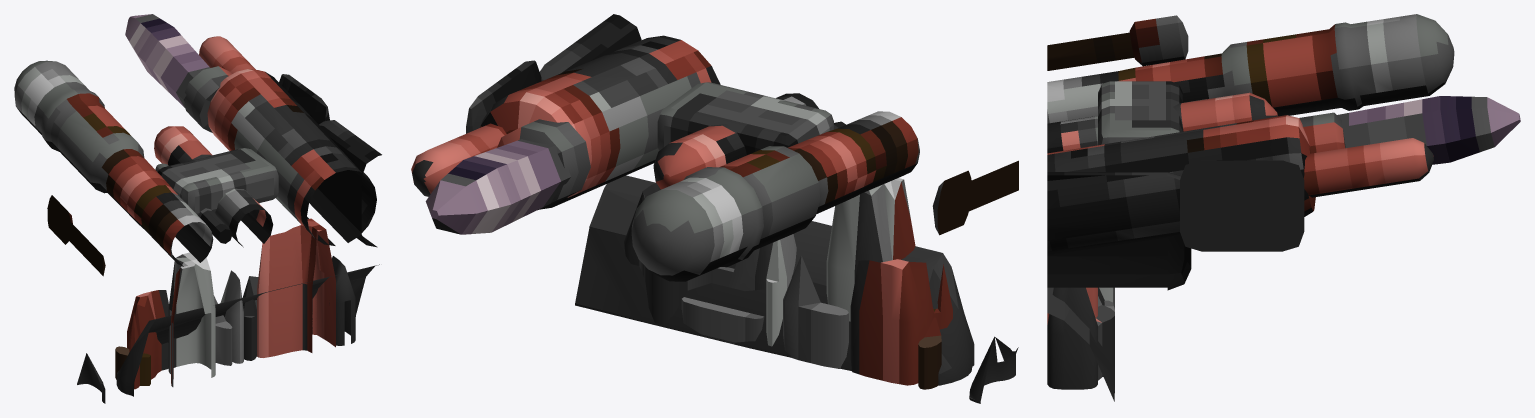
The model's file is deli_tower_3.glb.
The picture shows the model from 3 angles, left to right: view 1: azimuth 30°, elevation 25°; view 2: azimuth 150°, elevation 25°; view 3: azimuth 270°, elevation 25°; orthographic projection. The views are drawn at different scales.
Parts seen in each view (by area): view 1: deli_tower_3_s1, deli_tower_3_s2, deli_tower_3_hull_red, deli_tower_3_hull_light, deli_tower_3_s_cross, deli_tower_3_s2_crystal, deli_tower_3_hull_gaps, deli_tower_3_s3, deli_tower_3_s4_low, deli_tower_3_hull_dark, deli_tower_3_s2_collar, deli_tower_3_s5 (+5 smaller); view 2: deli_tower_3_s1, deli_tower_3_hull_gaps, deli_tower_3_s2, deli_tower_3_hull_red, deli_tower_3_s2_crystal, deli_tower_3_hull_light, deli_tower_3_s_cross, deli_tower_3_hull_mid, deli_tower_3_hull_dark, deli_tower_3_s3, deli_tower_3_s5, deli_tower_3_s2_collar (+4 smaller); view 3: deli_tower_3_s1, deli_tower_3_s2, deli_tower_3_s4_high, deli_tower_3_s2_crystal, deli_tower_3_s4_low, deli_tower_3_s2_rail, deli_tower_3_hull_dark, deli_tower_3_s_cross, deli_tower_3_s5, deli_tower_3_s3, deli_tower_3_hull_gaps, deli_tower_3_s2_collar.
Boxes of the visible parts, x1,y1,x2,y2 form: deli_tower_3_s1: (14, 60, 213, 266); deli_tower_3_s2: (207, 69, 376, 245); deli_tower_3_hull_red: (127, 218, 335, 389); deli_tower_3_hull_light: (168, 252, 243, 386); deli_tower_3_s_cross: (158, 148, 278, 215); deli_tower_3_s2_crystal: (125, 14, 209, 107); deli_tower_3_hull_gaps: (77, 264, 379, 403); deli_tower_3_s3: (154, 126, 273, 247); deli_tower_3_s4_low: (318, 120, 381, 247); deli_tower_3_hull_dark: (242, 256, 355, 360); deli_tower_3_s2_collar: (184, 66, 231, 132); deli_tower_3_s5: (47, 195, 105, 276); deli_tower_3_s1: (631, 111, 919, 281); deli_tower_3_hull_gaps: (575, 175, 1018, 403); deli_tower_3_s2: (480, 35, 720, 209); deli_tower_3_hull_red: (850, 259, 952, 385); deli_tower_3_s2_crystal: (425, 139, 570, 234); deli_tower_3_hull_light: (766, 178, 915, 346); deli_tower_3_s_cross: (657, 82, 833, 155); deli_tower_3_hull_mid: (681, 255, 848, 368); deli_tower_3_hull_dark: (624, 183, 772, 326); deli_tower_3_s3: (653, 93, 818, 189); deli_tower_3_s5: (932, 160, 1018, 235); deli_tower_3_s2_collar: (497, 119, 590, 210); deli_tower_3_s1: (1047, 14, 1454, 123); deli_tower_3_s2: (1047, 115, 1315, 254); deli_tower_3_s4_high: (1180, 160, 1304, 251); deli_tower_3_s2_crystal: (1337, 96, 1520, 164); deli_tower_3_s4_low: (1047, 172, 1191, 290); deli_tower_3_s2_rail: (1303, 138, 1433, 197); deli_tower_3_hull_dark: (1047, 287, 1114, 389); deli_tower_3_s_cross: (1098, 81, 1182, 145); deli_tower_3_s5: (1047, 15, 1188, 70); deli_tower_3_s3: (1047, 92, 1277, 153); deli_tower_3_hull_gaps: (1047, 287, 1114, 401); deli_tower_3_s2_collar: (1299, 112, 1345, 153).
Bounding box in the file's own units: 23.98 × 17.53 × 27.93.
